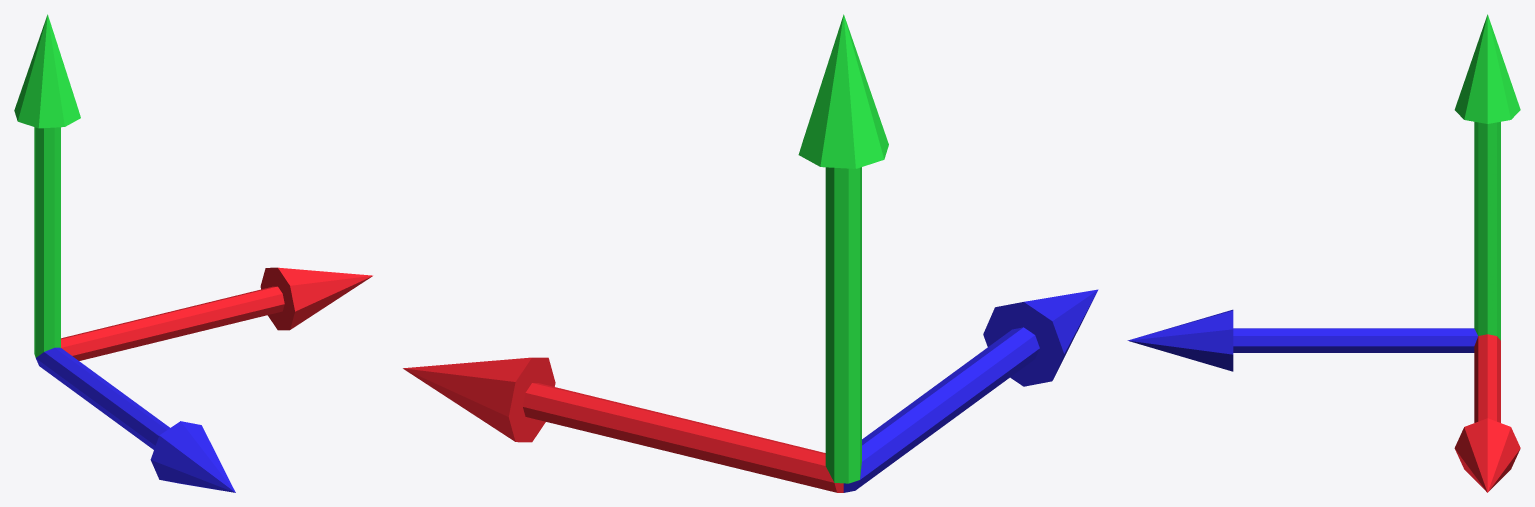
File: all-axes.obj
The picture shows the model from 3 angles, left to right: view 1: azimuth 30°, elevation 25°; view 2: azimuth 150°, elevation 25°; view 3: azimuth 270°, elevation 25°; orthographic projection. The views are drawn at different scales.
Visible parts, largest first — view 1: Y_Cylinder, X_Cylinder.001, Cone, Z_Cylinder.002, Cone.002, Cone.001; view 2: Y_Cylinder, X_Cylinder.001, Z_Cylinder.002, Cone, Cone.001, Cone.002; view 3: Z_Cylinder.002, Y_Cylinder, Cone, Cone.002, Cone.001, X_Cylinder.001.
Boxes of the visible parts, x1,y1,x2,y2 form: Y_Cylinder: (34,127,60,357); X_Cylinder.001: (61,286,284,360); Cone: (14,14,80,128); Z_Cylinder.002: (36,347,169,449); Cone.002: (150,421,235,492); Cone.001: (260,267,372,330); Y_Cylinder: (825,167,861,483); X_Cylinder.001: (523,383,843,492); Z_Cylinder.002: (843,327,1039,492); Cone: (798,14,888,168); Cone.001: (403,357,555,442); Cone.002: (983,289,1098,386); Z_Cylinder.002: (1233,328,1477,352); Y_Cylinder: (1474,121,1500,340); Cone: (1454,14,1520,123); Cone.002: (1127,309,1233,371); Cone.001: (1454,418,1520,492); X_Cylinder.001: (1474,334,1500,422).
Bounding box in the file's own units: 2.97 × 2.97 × 2.97.
3 materials, 3 textured.
